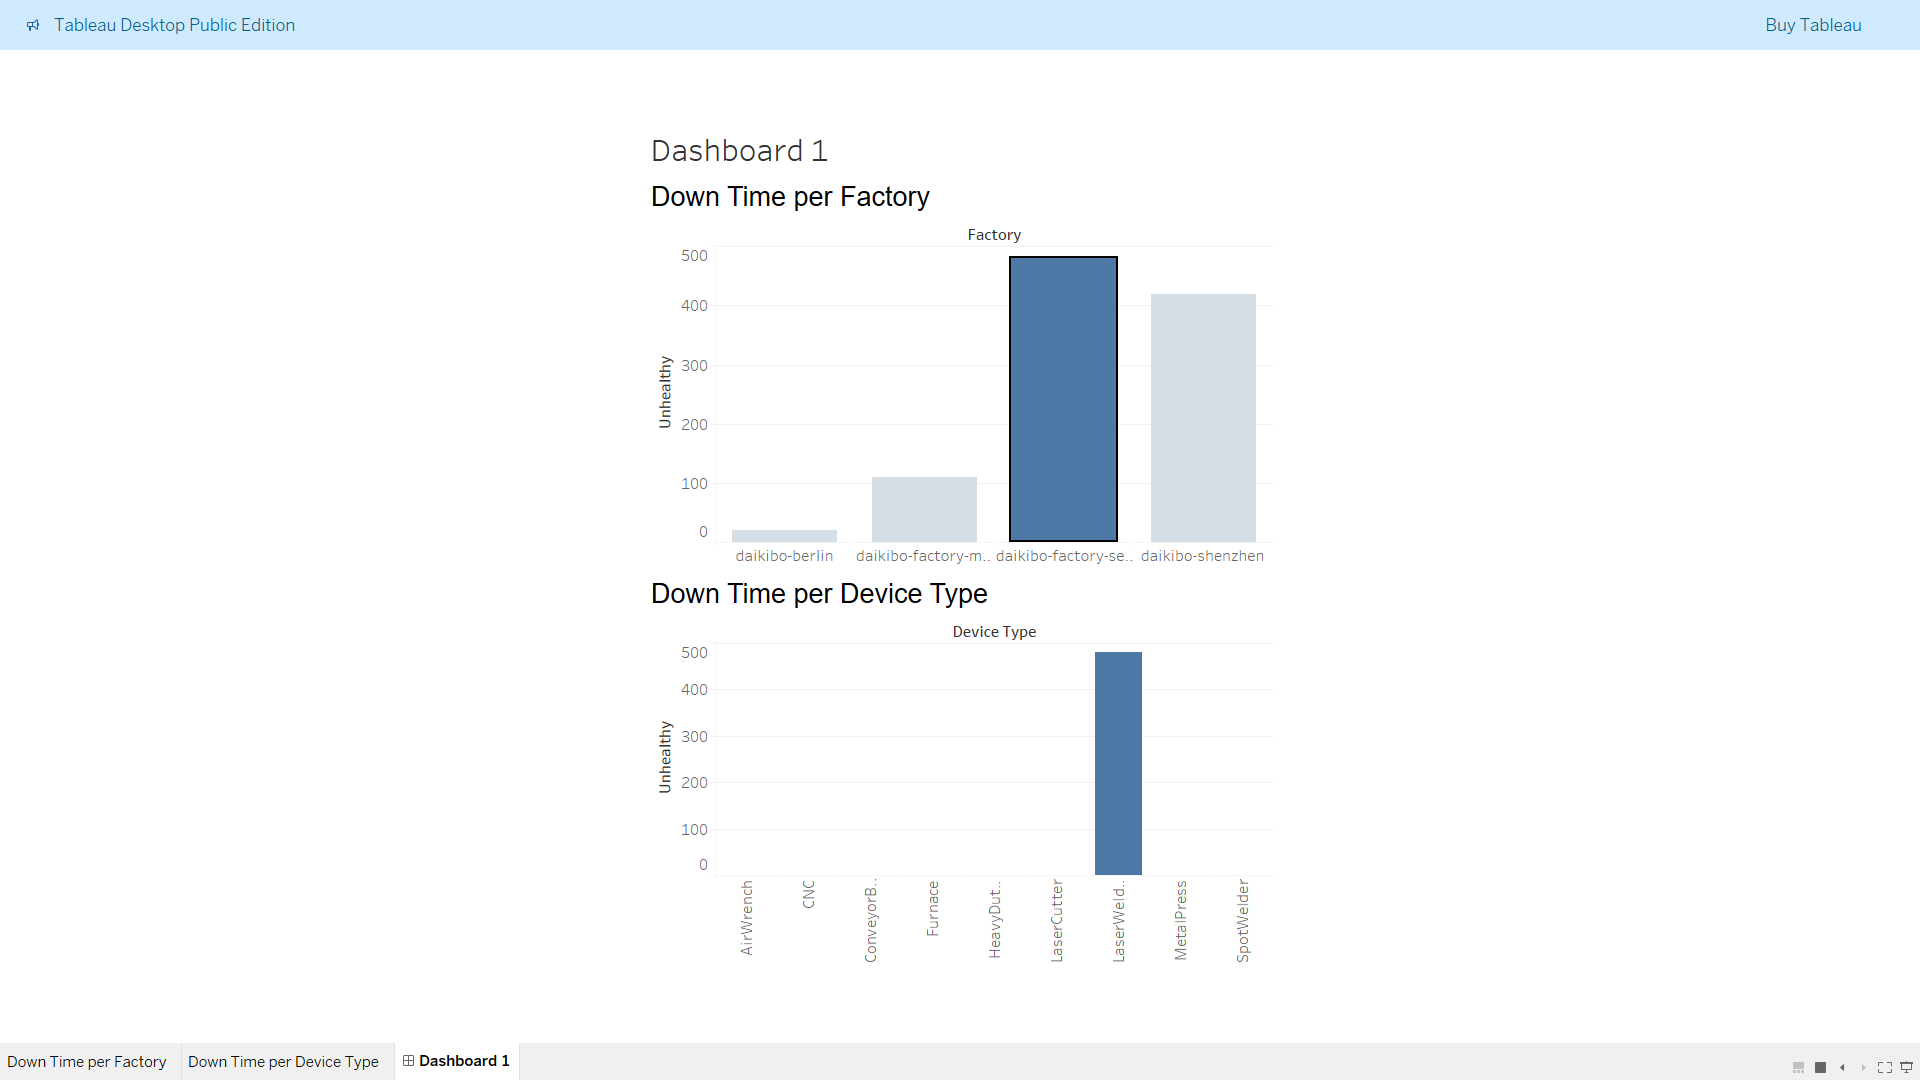

What the dashboard file says about the page in this screenshot:
{"tool":"tableau","page":{"name":"Dashboard 1","canvas":[650,860],"ordinal":0},"visuals":[{"type":"title","box":[8,8,634,50]},{"type":"worksheet","title":"Down Time per Factory","mark":"Automatic","rows":["Calculation_683984203276820480"],"cols":["factory"],"box":[8,58,634,397]},{"type":"worksheet","title":"Down Time per Device Type","mark":"Automatic","rows":["Calculation_683984203276820480"],"cols":["deviceType"],"box":[8,455,634,397]}]}

Visuals, with their boxes in screenshot pixels (x1, y1, x2, y2):
title: bbox=[1005, 0, 1819, 39]
"Down Time per Factory" worksheet: bbox=[1005, 39, 1819, 549]
"Down Time per Device Type" worksheet: bbox=[1005, 549, 1819, 1059]
